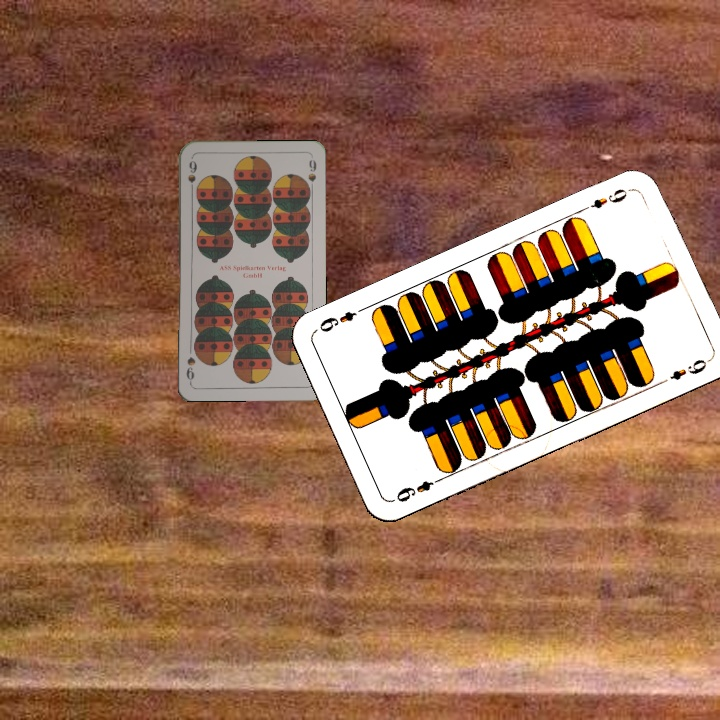E9: (389, 473, 445, 505), (577, 184, 634, 214)
S9: (184, 156, 199, 196)
